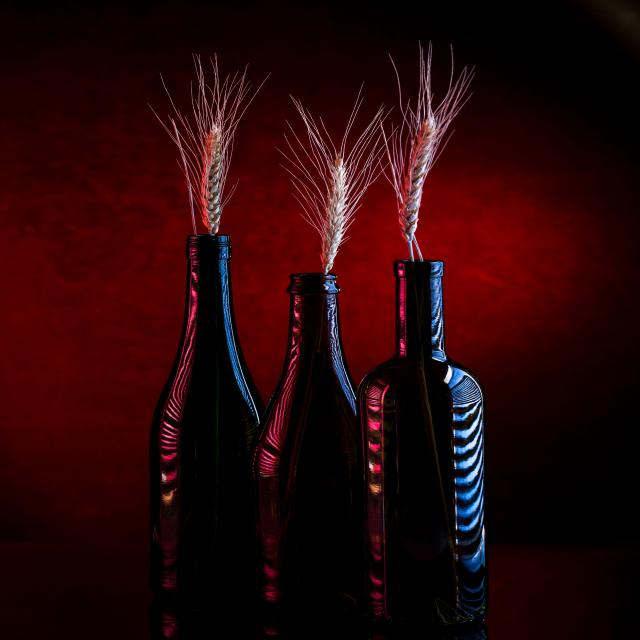Bottle: (359, 261, 487, 625), (150, 235, 263, 605), (254, 273, 363, 614)
